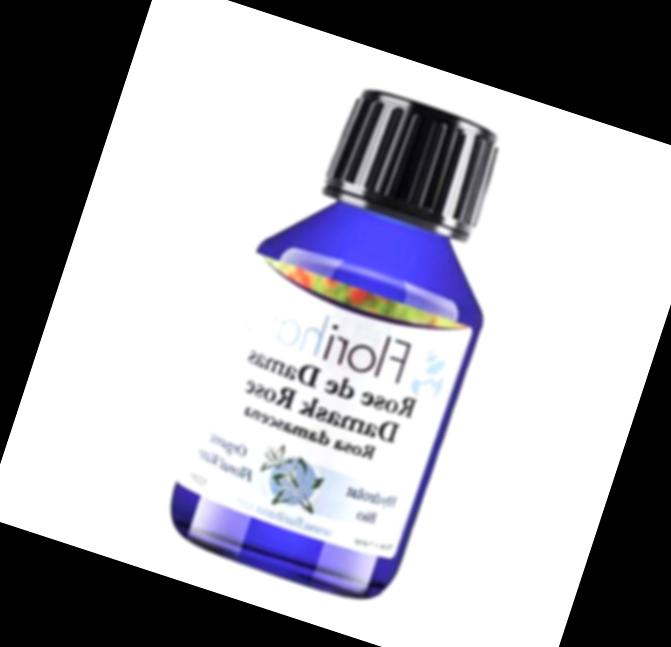cosmetic: (157, 64, 546, 610)
